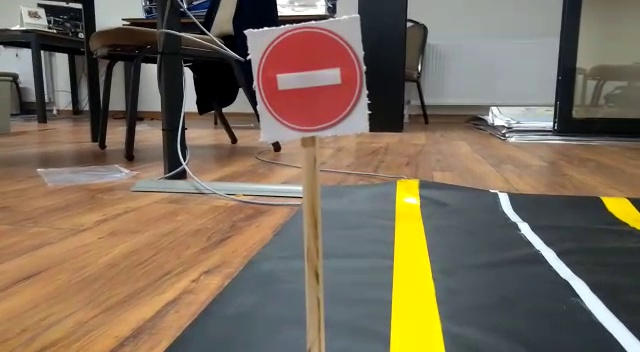girisi_olmayan_yol: (251, 28, 362, 129)
